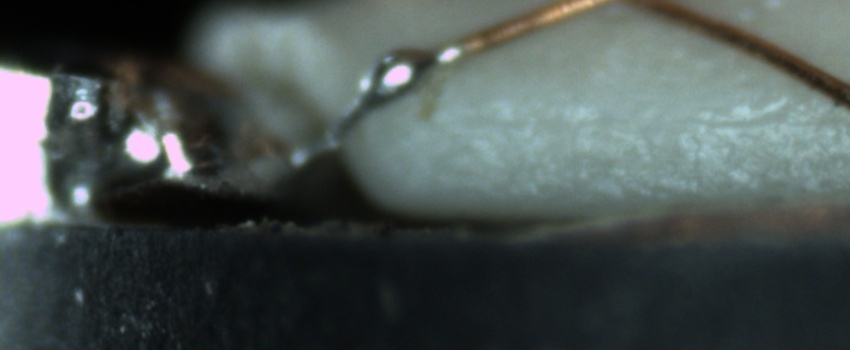CL: (558, 0, 672, 16)
DL: (455, 91, 849, 151)
TB: (354, 41, 443, 111)
TS: (331, 46, 462, 149)
TTCW: (285, 27, 494, 169)
